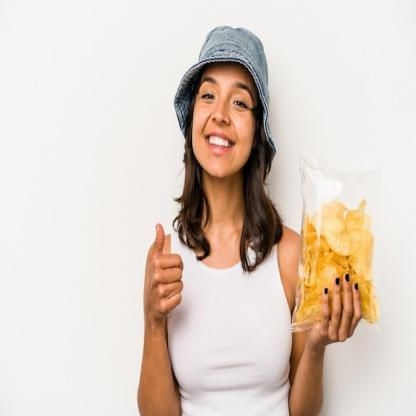thumb_up: (144, 220, 186, 318)
